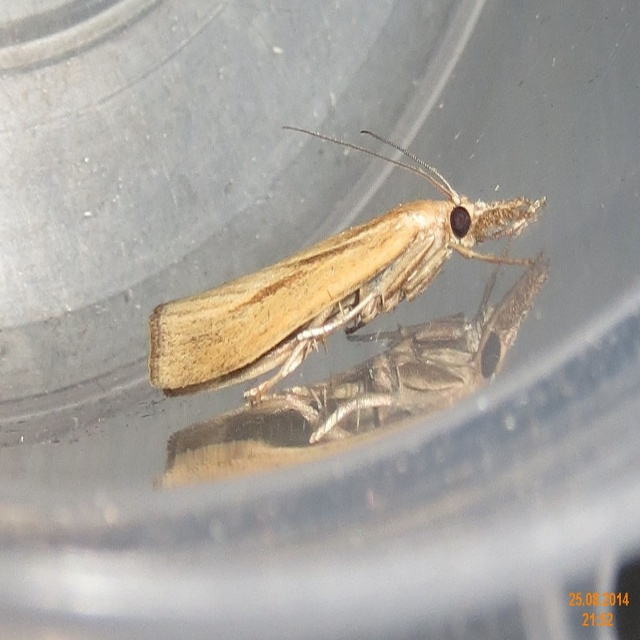Moths and butterflies: (148, 121, 551, 404)
